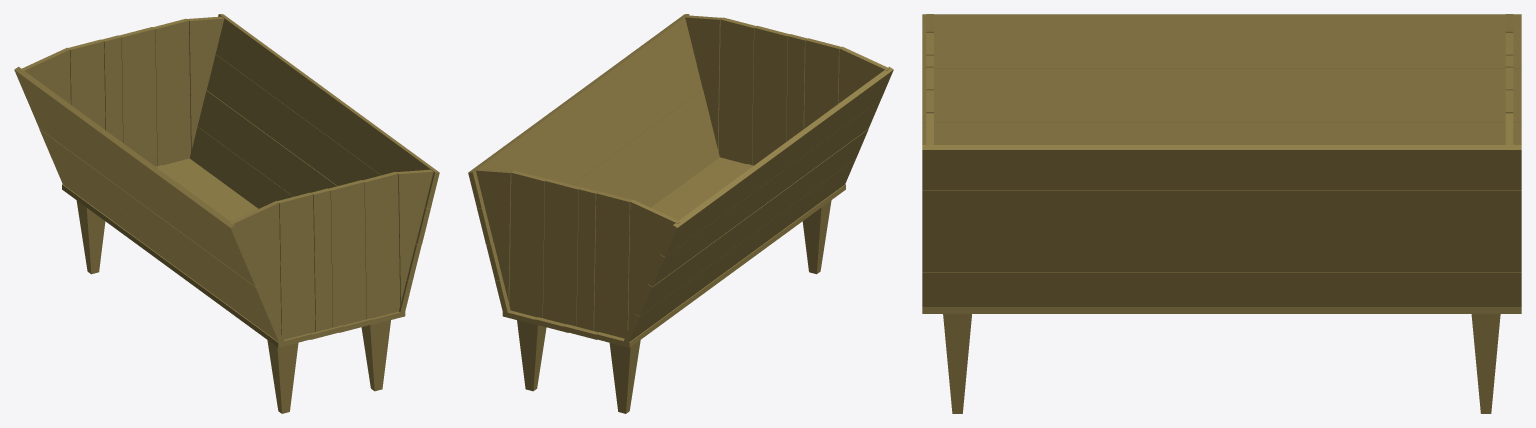
Rendered from BacVaisselleUnity.fbx.
3 renders of one model, left to right at view 1: azimuth 30°, elevation 25°; view 2: azimuth 150°, elevation 25°; view 3: azimuth 270°, elevation 25°, orthographic. The views are drawn at different scales.
Visible parts, largest first — view 1: pCube1 (×2), pCube2 (×2), pCube4 (×2), pCube3 (×2), pCube10, pCube11, pCube9, pCube15, pCube17, pCube14, pCube19, pCube12 (+10 smaller); view 2: pCube1 (×2), pCube2 (×2), pCube4 (×2), pCube3 (×2), pCube19, pCube9, pCube17, pCube15, pCube11, pCube20, pCube10, pCube18 (+10 smaller); view 3: pCube1 (×2), pCube2 (×2), pCube4 (×2), pCube3, pCube5, pCube24, pCube21.
Boxes of the visible parts, x1,y1,x2,y2 form: pCube1 (×2): (14, 14, 439, 256); pCube2 (×2): (27, 54, 430, 286); pCube4 (×2): (39, 90, 421, 316); pCube3 (×2): (52, 126, 412, 345); pCube10: (277, 192, 315, 339); pCube11: (329, 180, 366, 327); pCube9: (362, 172, 400, 319); pCube15: (153, 18, 190, 165); pCube17: (119, 27, 157, 166); pCube14: (229, 201, 281, 333); pCube19: (68, 39, 105, 129); pCube12: (311, 188, 332, 331); pCube1 (×2): (468, 14, 893, 256); pCube2 (×2): (477, 53, 880, 286); pCube4 (×2): (486, 89, 868, 316); pCube3 (×2): (495, 125, 855, 345); pCube19: (594, 191, 631, 338); pCube9: (718, 17, 756, 164); pCube17: (543, 179, 580, 326); pCube15: (509, 170, 546, 317); pCube11: (752, 25, 789, 165); pCube20: (628, 200, 680, 329); pCube10: (804, 38, 840, 128); pCube18: (576, 187, 597, 330); pCube1 (×2): (922, 14, 1521, 190); pCube2 (×2): (922, 68, 1521, 231); pCube4 (×2): (922, 122, 1521, 272); pCube3: (922, 272, 1521, 306); pCube5: (922, 307, 1521, 313); pCube24: (1471, 314, 1500, 413); pCube21: (943, 314, 971, 413).
Size of the model in its own units: 9.57 by 9.66 by 17.14.
